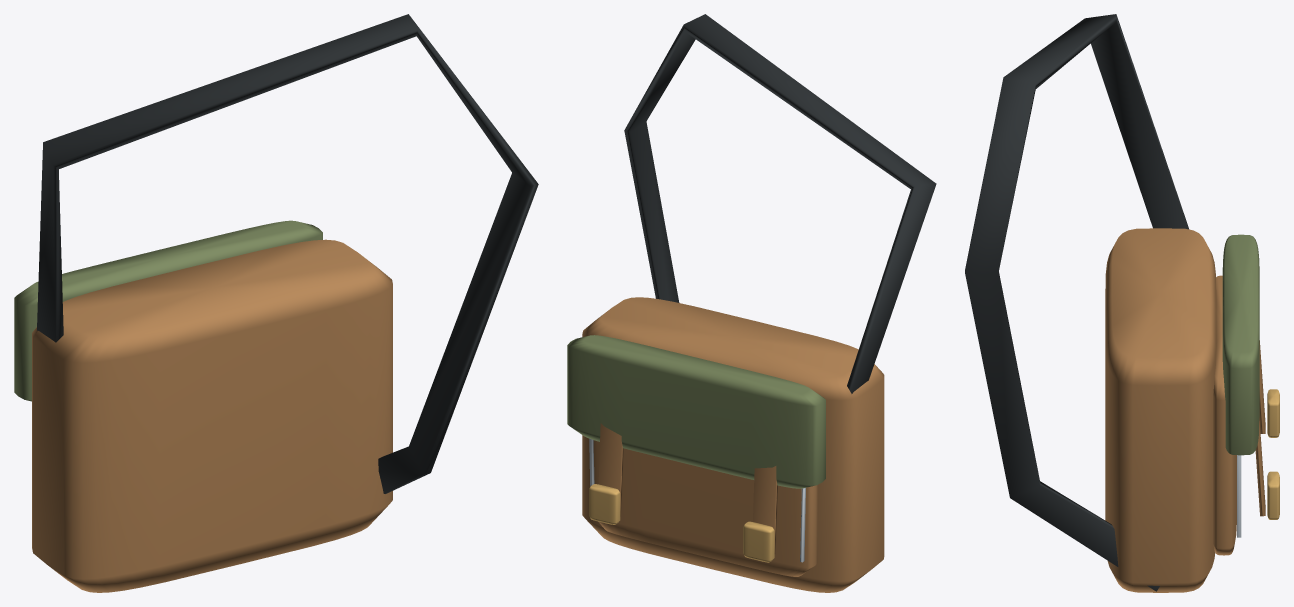
The model's file is 09-fieldbag.glb.
3 views of the same model, side by side, from view 1: azimuth 30°, elevation 25°; view 2: azimuth 150°, elevation 25°; view 3: azimuth 270°, elevation 25° (orthographic). The views are drawn at different scales.
Visible parts, largest first — view 1: 09-fieldbag; view 2: 09-fieldbag; view 3: 09-fieldbag.
Part boxes in pixels (<box>): 09-fieldbag: <box>14,14,538,592</box>; 09-fieldbag: <box>567,14,936,592</box>; 09-fieldbag: <box>965,14,1279,592</box>.
Bounding box in the file's own units: 0.4106 × 0.5146 × 0.2914.
